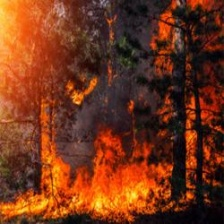fire: (29, 4, 223, 224)
